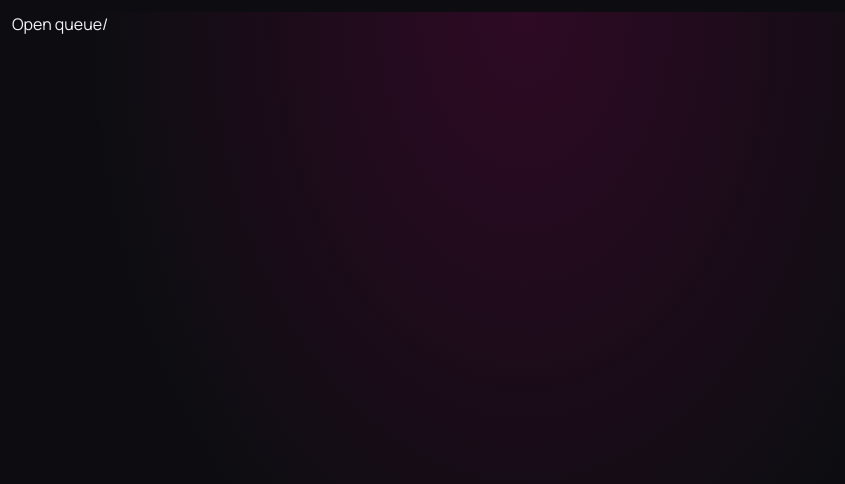
Test: React Router 7 declarative compatibility › navigates with Link without losing the query or hash
Click the link "Open queue": {"x": 57, "y": 24} left=12, top=13, right=102, bottom=35
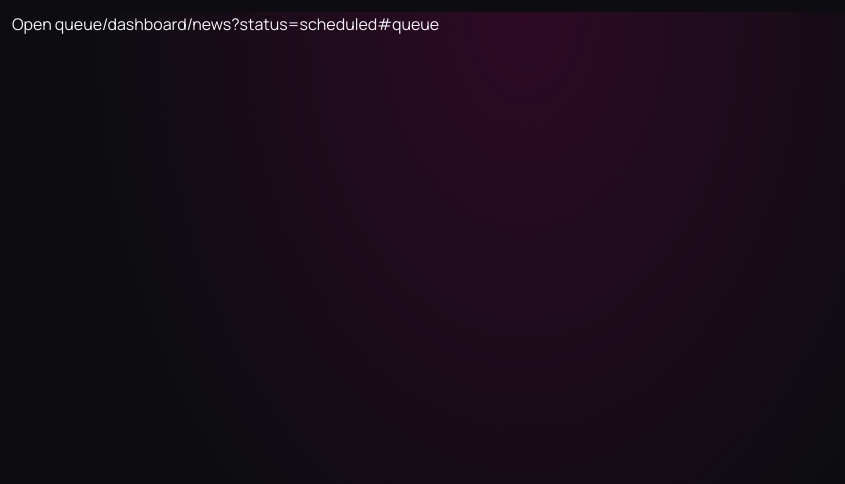
Expected: the text named "location" reads "/dashboard/news?status=scheduled#queue", left=102, top=13, right=439, bottom=35
